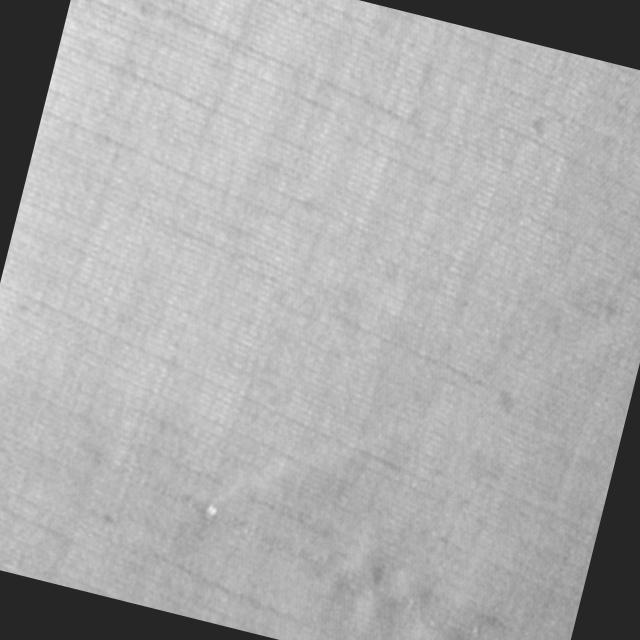hole: (200, 499, 220, 523)
